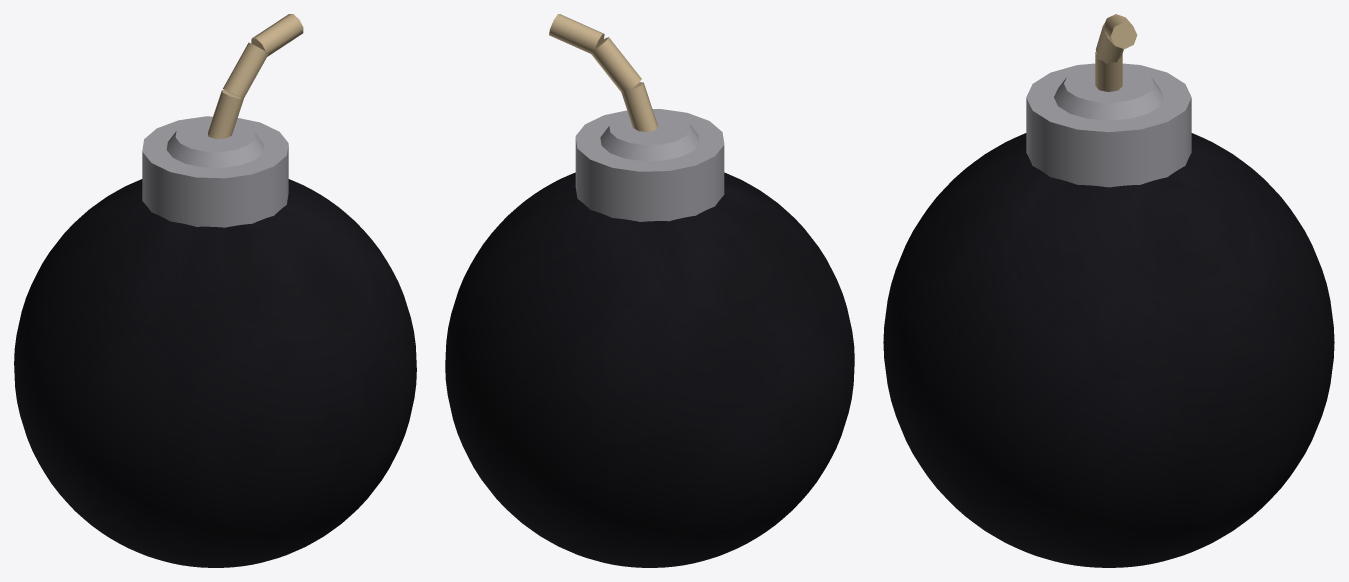
Rendered from bomb.glb.
The picture shows the model from 3 angles, left to right: view 1: azimuth 30°, elevation 25°; view 2: azimuth 150°, elevation 25°; view 3: azimuth 270°, elevation 25°; orthographic projection. The views are drawn at different scales.
Parts seen in each view (by area): view 1: whole; view 2: whole; view 3: whole.
Boxes of the visible parts, box(x1,y1,x2,y2) form: whole: box(14, 14, 416, 567); whole: box(445, 14, 854, 567); whole: box(883, 14, 1334, 567).
Size of the model in its own units: 0.6 by 0.8373 by 0.6.
Materials: 3 (1 with a texture image).
